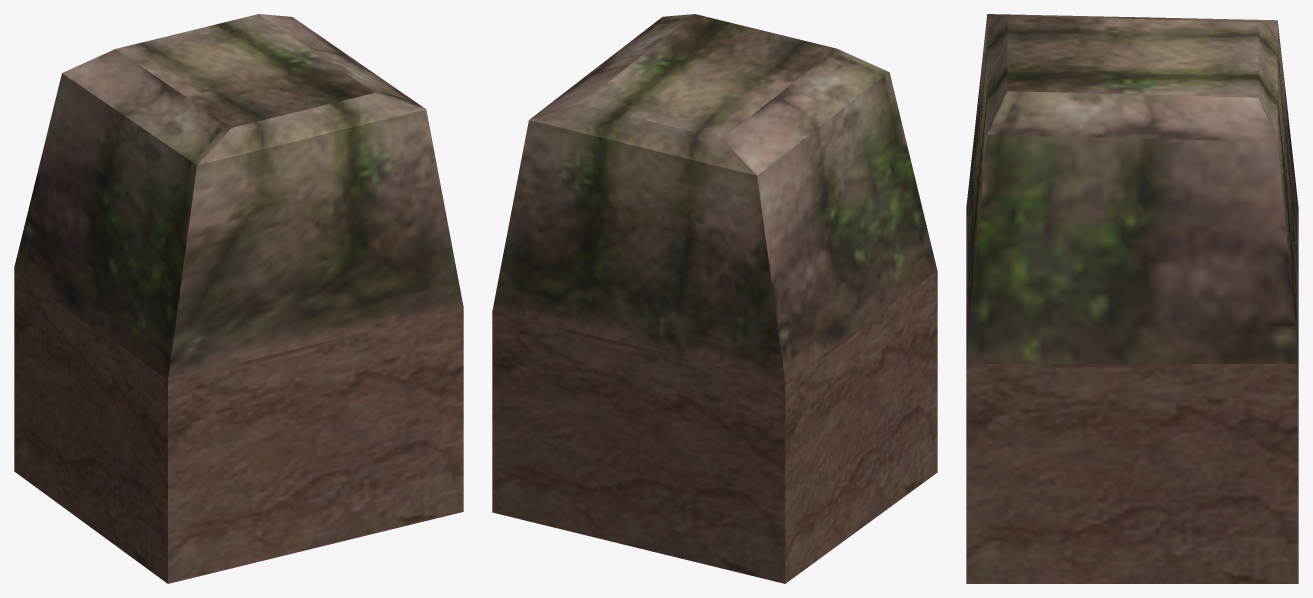
Rendered from C1SMBRIDGEPOSTH.obj.
3 views of the same model, side by side, from view 1: azimuth 30°, elevation 25°; view 2: azimuth 150°, elevation 25°; view 3: azimuth 270°, elevation 25° (orthographic). The views are drawn at different scales.
Visible parts, largest first — view 1: Node 0; view 2: Node 0; view 3: Node 0.
Part boxes in pixels (x1,y1,x2,y2): Node 0: (14,14,463,583); Node 0: (492,14,937,583); Node 0: (966,14,1298,583).
Bounding box in the file's own units: 5.12 × 6.98 × 4.61.
Materials: 2 (2 with a texture image).
